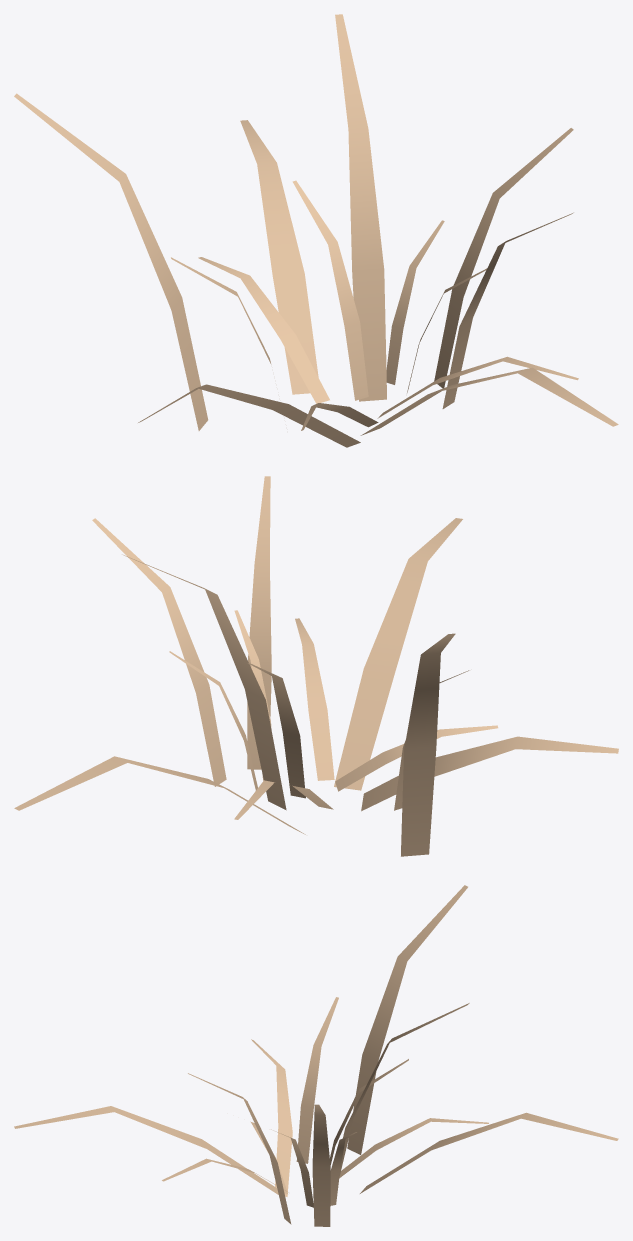
The model's file is GrassOld2.fbx.
The picture shows the model from 3 angles, top to bottom: view 1: azimuth 30°, elevation 25°; view 2: azimuth 150°, elevation 25°; view 3: azimuth 270°, elevation 25°; orthographic projection. The views are drawn at different scales.
Parts seen in each view (by area): view 1: GrassOld2; view 2: GrassOld2; view 3: GrassOld2.
Part boxes in pixels (x1,y1,x2,y2): GrassOld2: (14, 14, 618, 447); GrassOld2: (14, 476, 618, 856); GrassOld2: (14, 885, 618, 1226).
Size of the model in its own units: 297 by 188 by 438.
